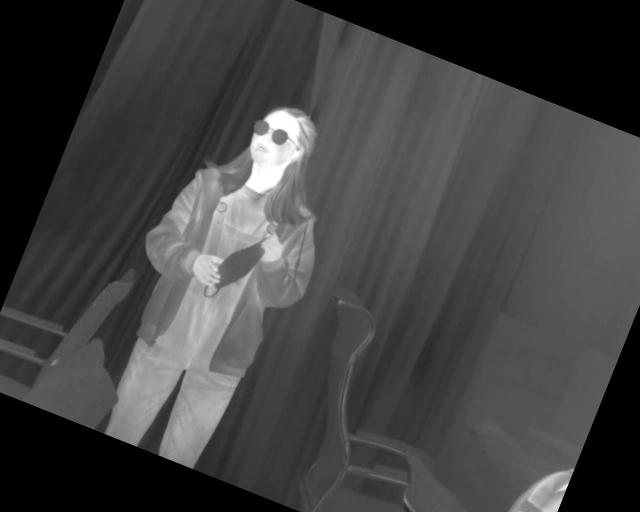face: (240, 94, 324, 181)
